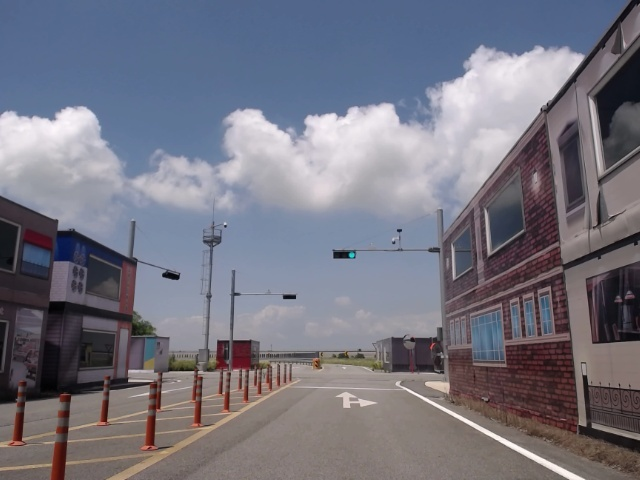green_3: (334, 251, 357, 258)
